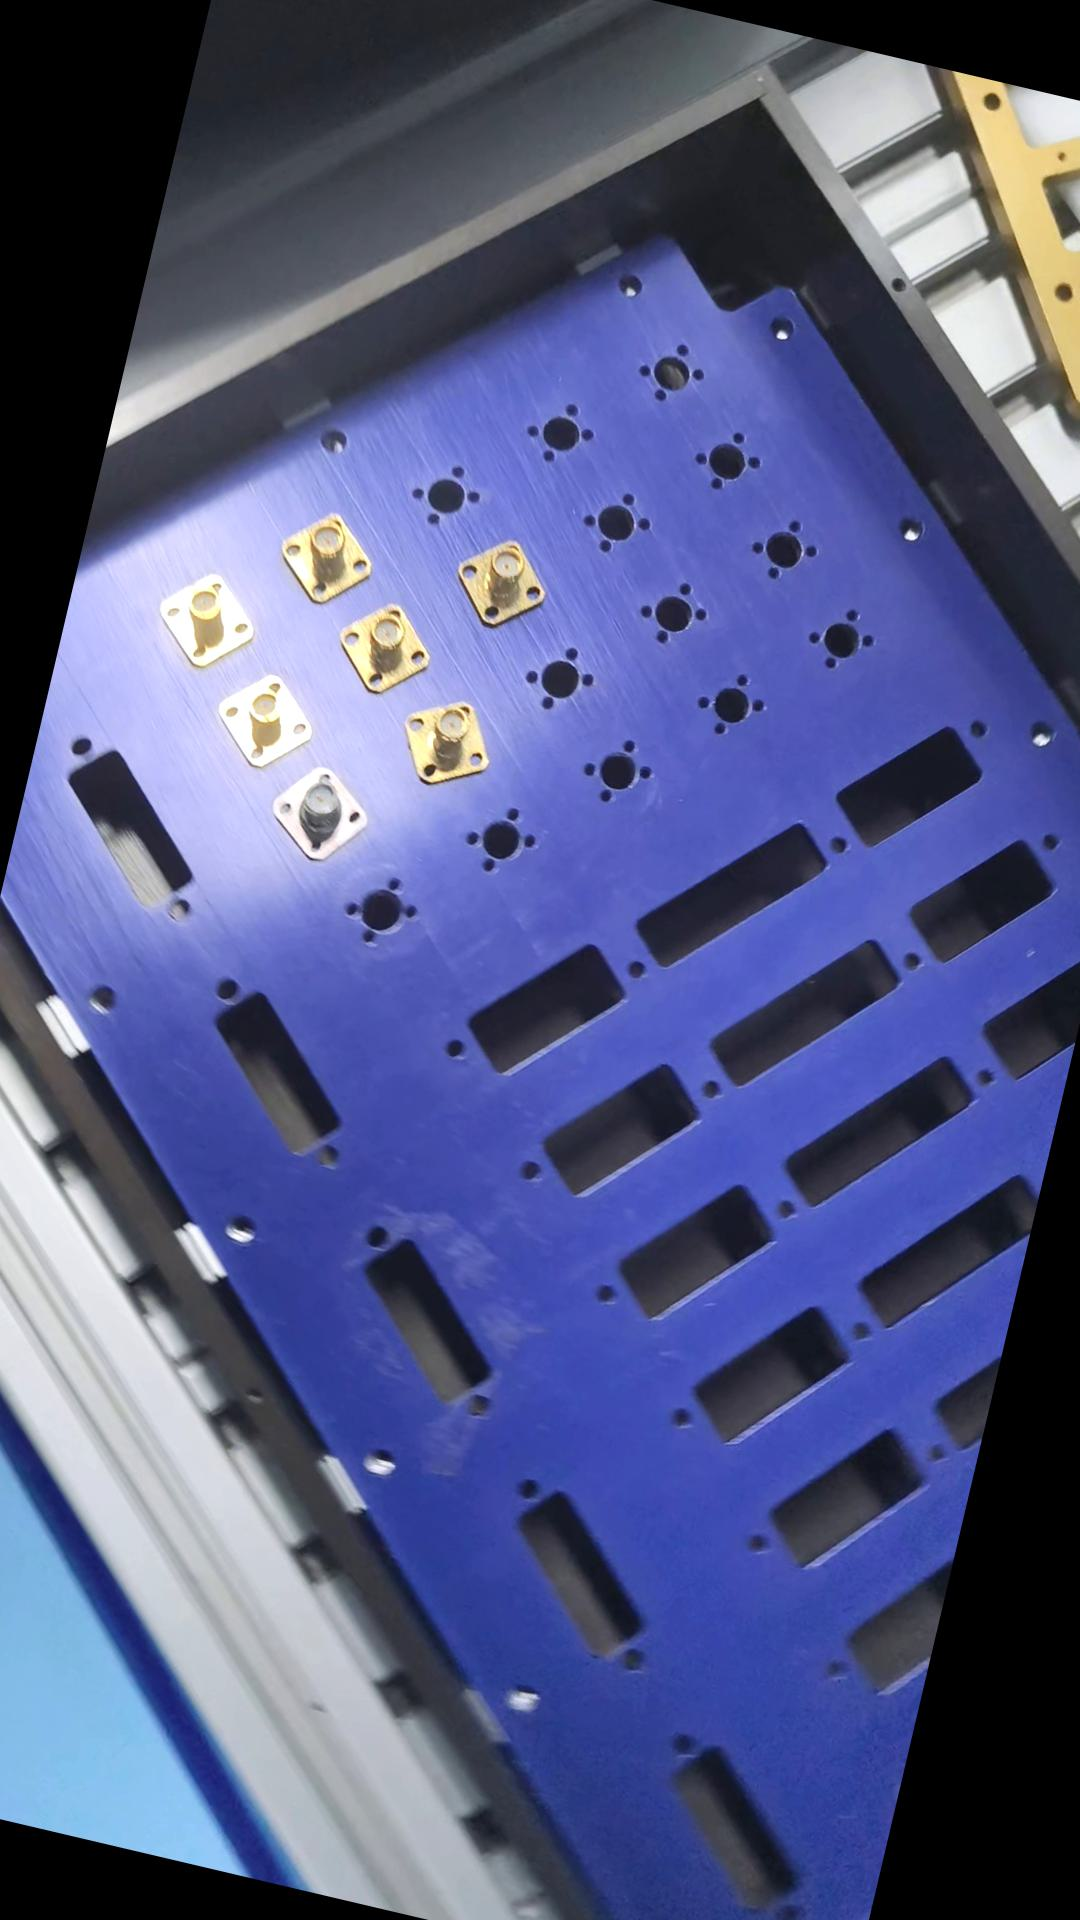SMA: (148, 560, 266, 676), (266, 752, 381, 864), (334, 592, 444, 705), (212, 665, 327, 773), (272, 502, 382, 611), (396, 688, 505, 795), (450, 527, 556, 632)
